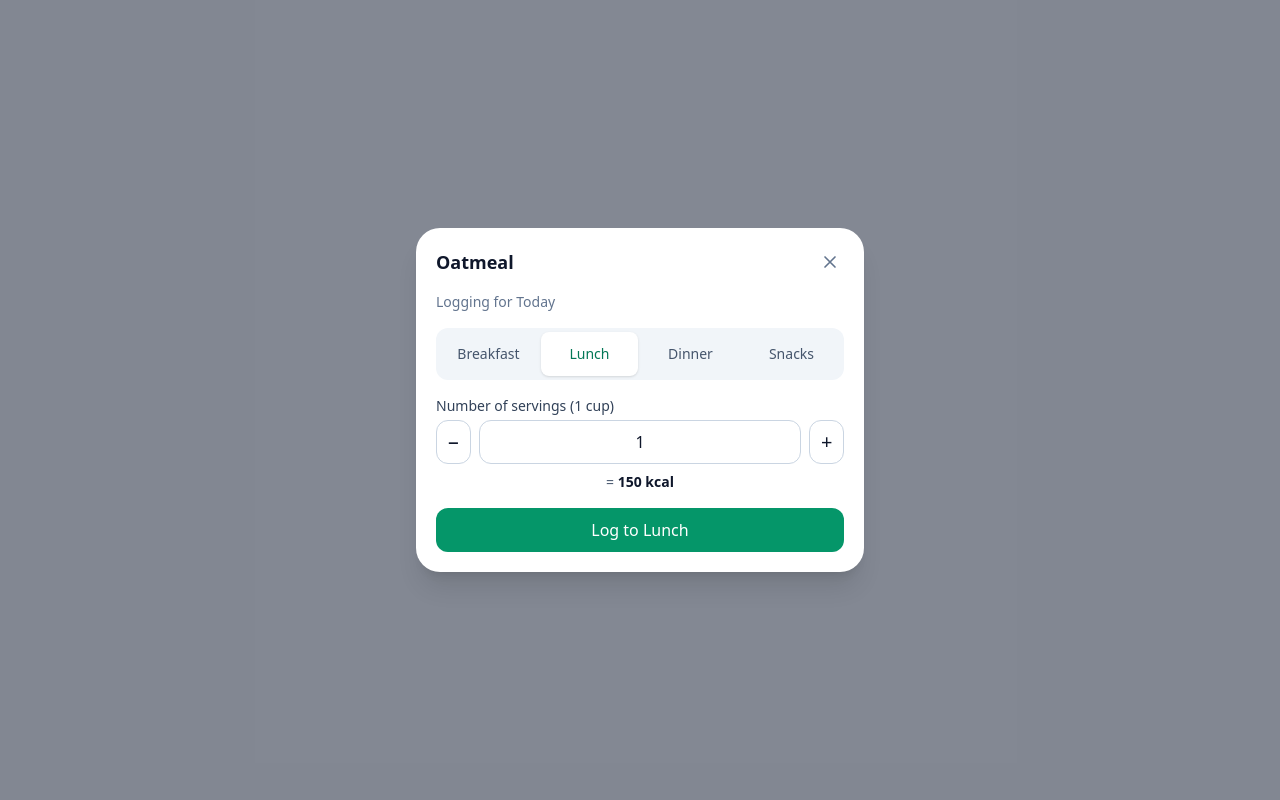
Test: LogFoodSheet › does not confirm invalid servings and explains why
The width and height of the screenshot is (1280, 800).
Replace the text in the field labelled "Number of servings (1 cup)" with "0": (640,442) [479,420,801,464]
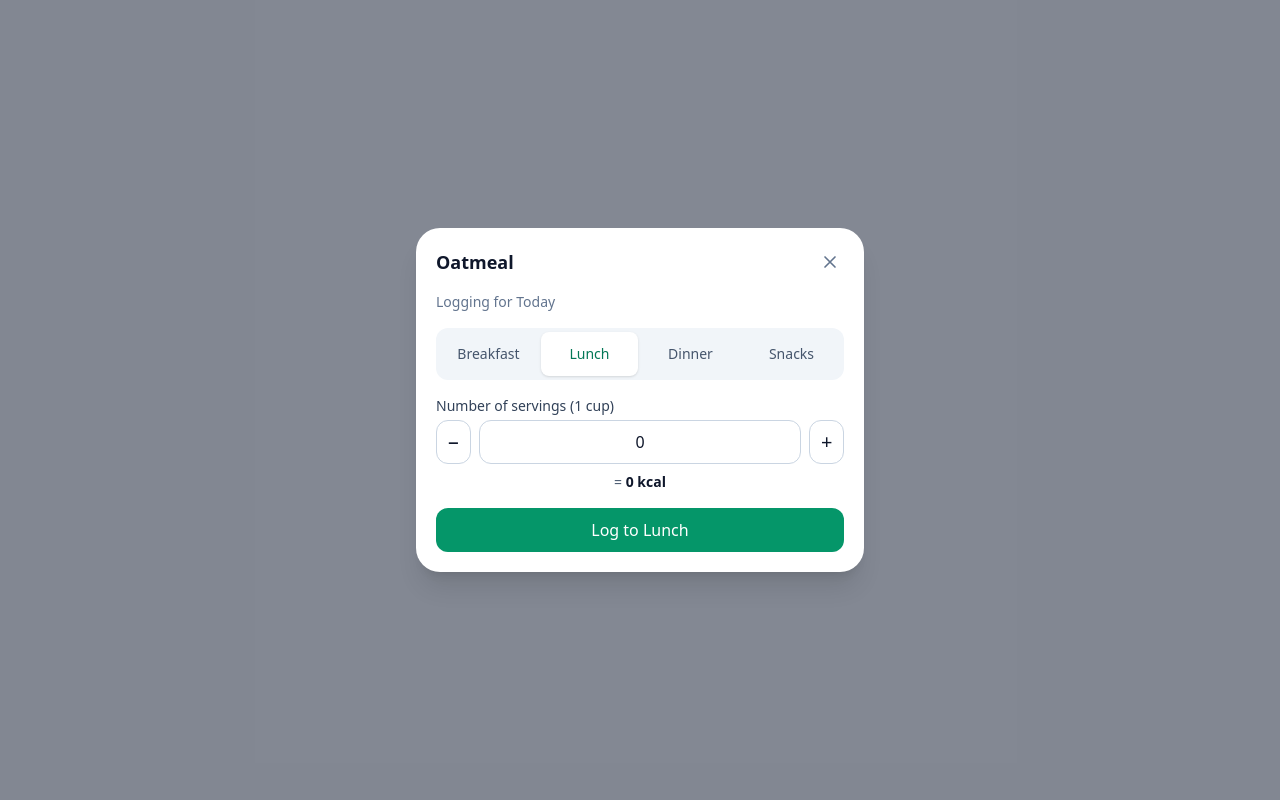
Click the button "Log to Lunch": (640,530) [436,508,844,552]
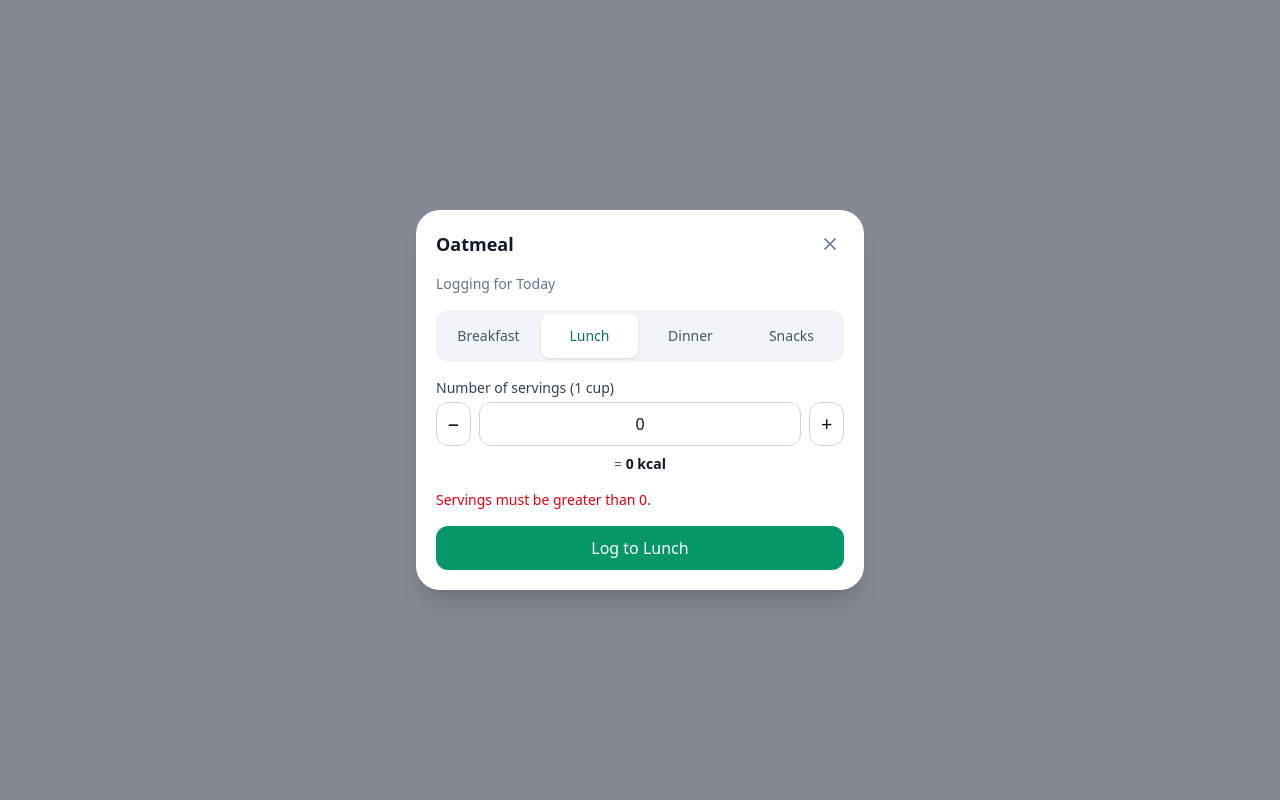
Expected: the message "Servings must be greater than 0." is shown, [436,490,651,509]
